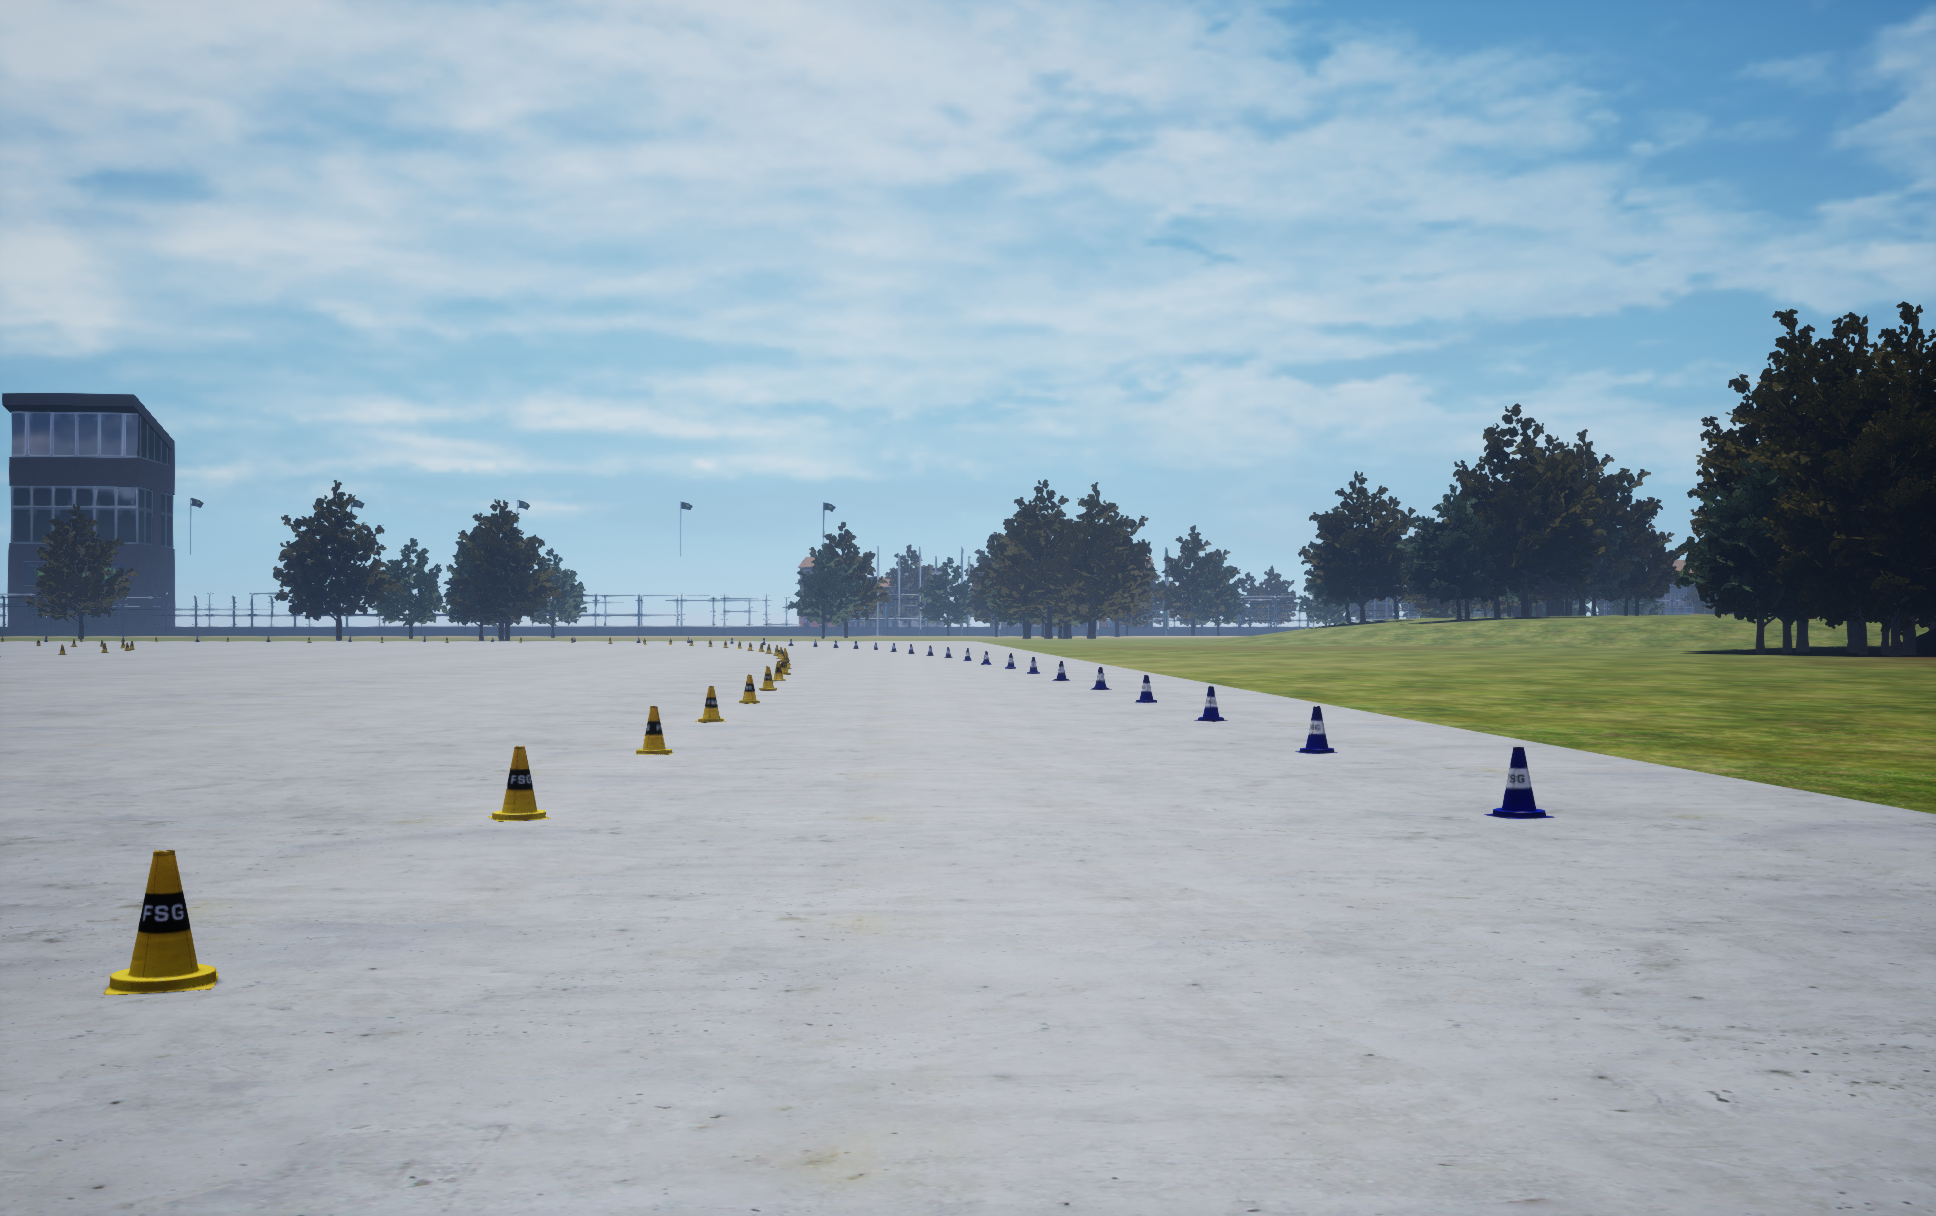blue: (104, 850, 219, 995), (488, 747, 551, 821), (635, 706, 672, 754), (695, 686, 726, 721), (740, 674, 759, 703), (759, 665, 776, 691), (772, 661, 784, 679)
yellow: (1484, 747, 1554, 818), (1294, 706, 1336, 754), (1194, 686, 1227, 721), (1135, 675, 1156, 702), (1090, 667, 1111, 689), (1052, 661, 1069, 679)
